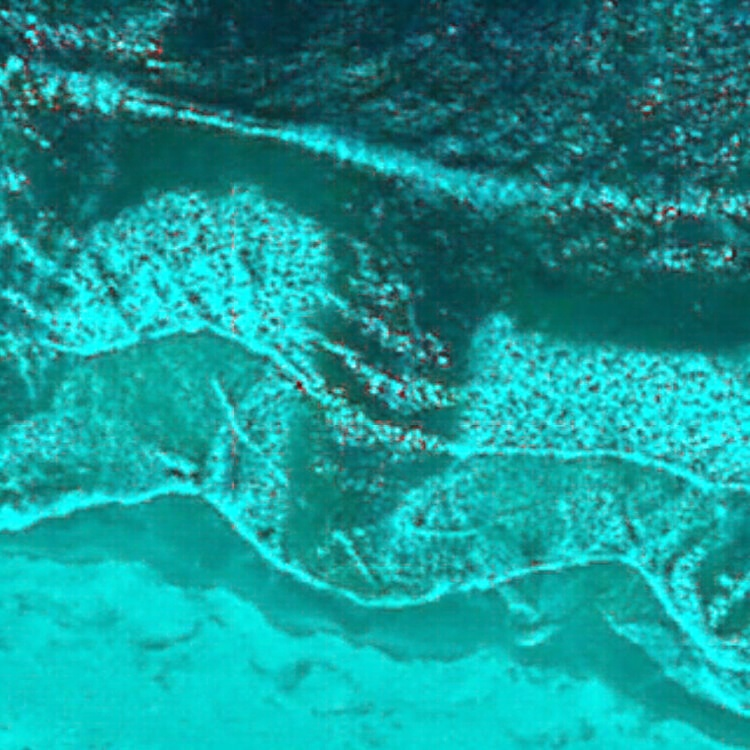rip_current: (232, 179, 511, 560)
